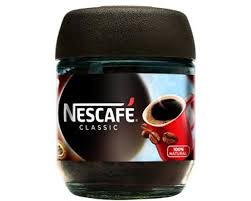nescafe-classic/gold-small: (50, 6, 193, 197)
